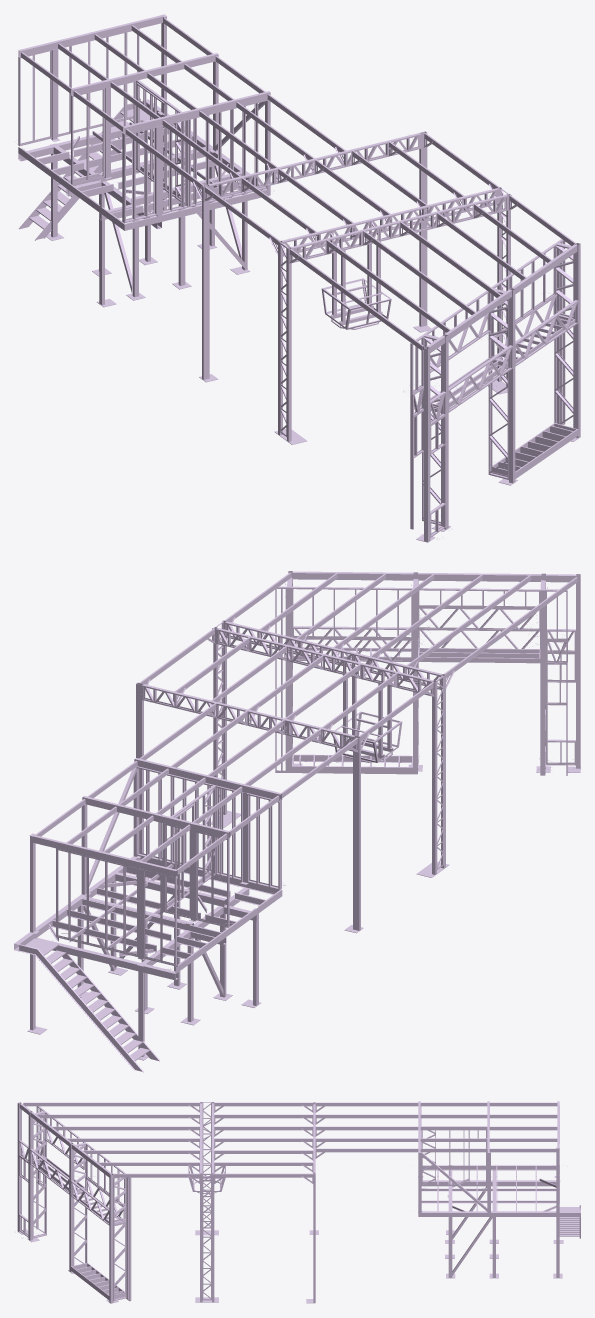
File: split_Cx.glb
3 views of the same model, one above another, from view 1: azimuth 30°, elevation 25°; view 2: azimuth 150°, elevation 25°; view 3: azimuth 270°, elevation 25° (orthographic). The views are drawn at different scales.
Visible parts, largest first — view 1: skfb_offset; view 2: skfb_offset; view 3: skfb_offset.
Boxes of the visible parts, x1,y1,x2,y2 form: skfb_offset: (14,14,580,542); skfb_offset: (14,571,580,1072); skfb_offset: (17,1101,580,1303).
Bounding box in the file's own units: 7.05 × 5.73 × 22.73.
